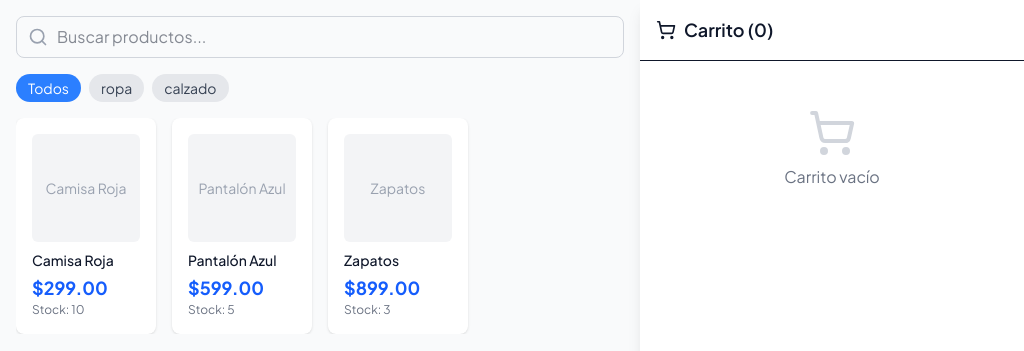
it: SellerTerminal - Componente Principal › Búsqueda y filtrado › debe filtrar productos por búsqueda
This screenshot has width=1024, height=351.
Type "Camisa" into the field with placeholder "Buscar productos...". click: point(320, 37)
box: [16,16,624,58]
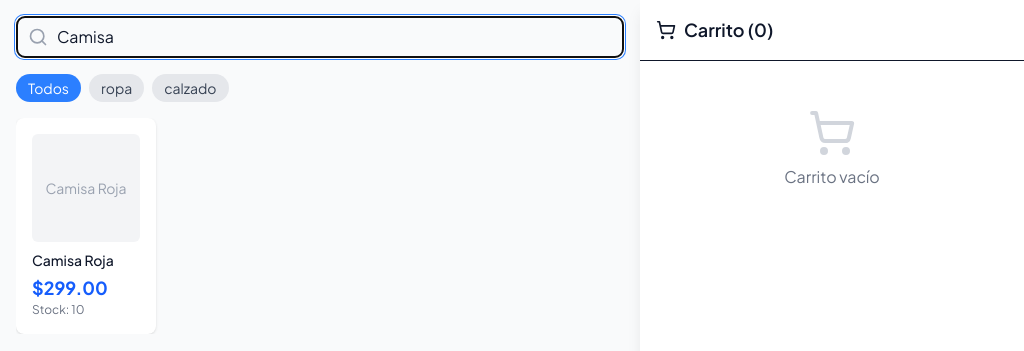
Expected: the text "Camisa Roja" is shown, [45,178,127,198]
Result: the text "Pantalón Azul" is gone
